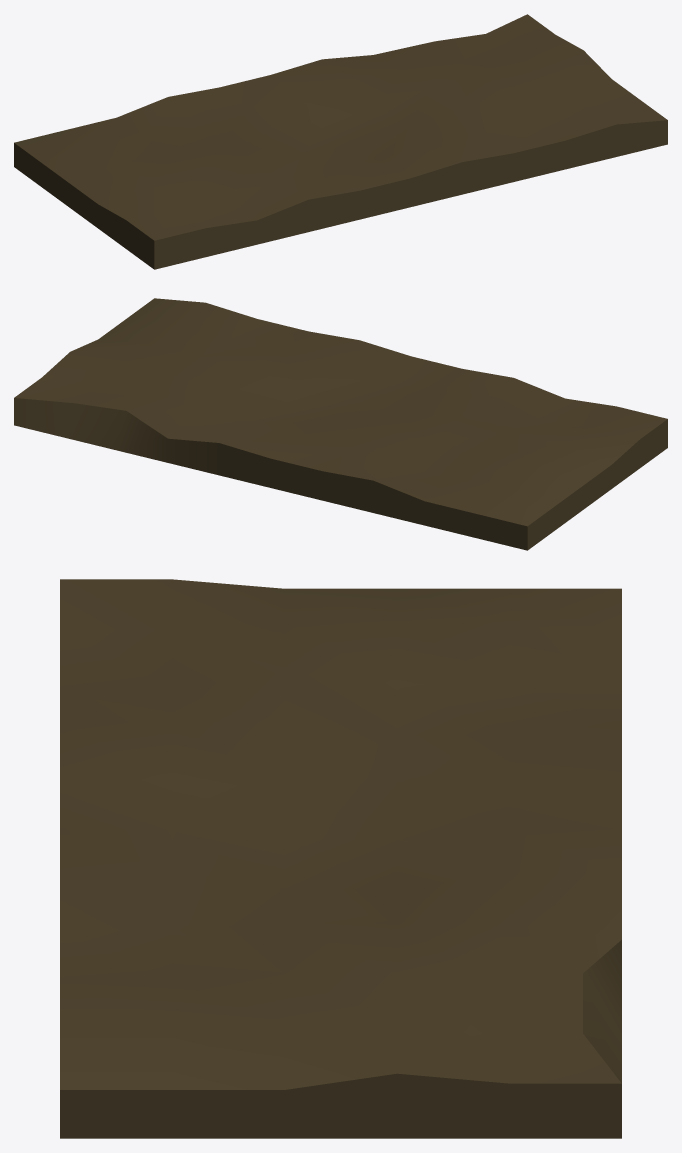
File: piso.fbx
3 views of the same model, one above another, from view 1: azimuth 30°, elevation 25°; view 2: azimuth 150°, elevation 25°; view 3: azimuth 270°, elevation 25° (orthographic). The views are drawn at different scales.
Visible parts, largest first — view 1: pCube1; view 2: pCube1; view 3: pCube1.
Boxes of the visible parts, box(x1,y1,x2,y2) form: pCube1: box(14, 14, 667, 269); pCube1: box(14, 298, 667, 550); pCube1: box(60, 579, 621, 1138).
Size of the model in its own units: 69.35 by 4.19 by 32.85.
